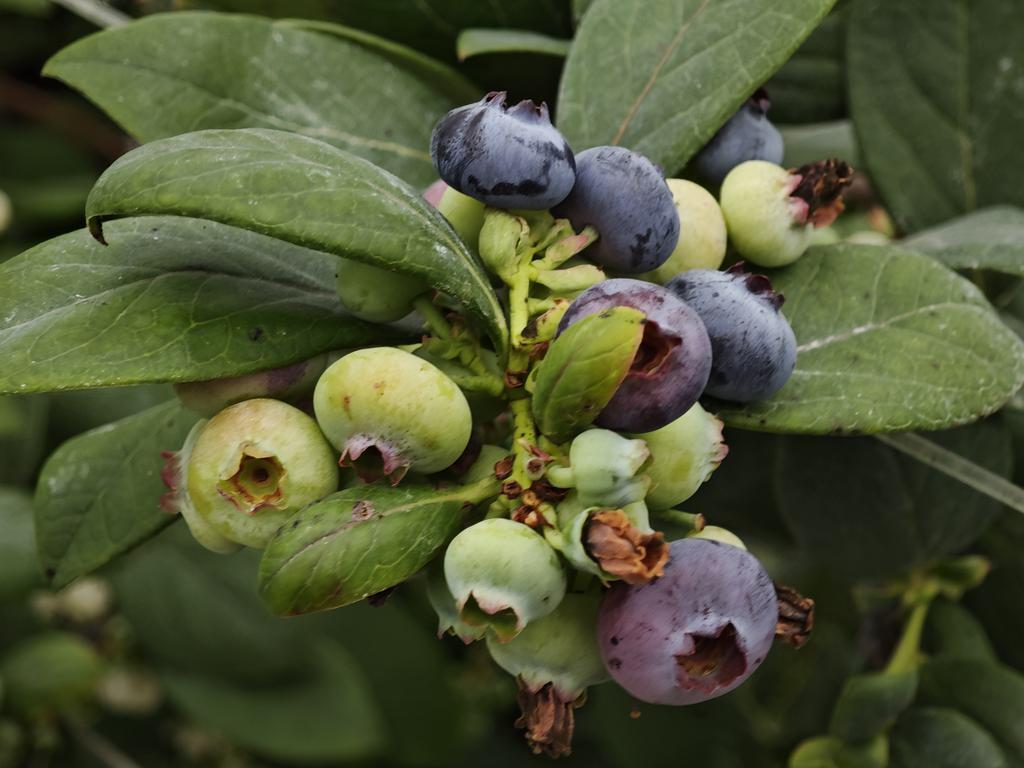RipeBlueBerry: (591, 535, 783, 710), (426, 88, 578, 212), (673, 265, 800, 408), (568, 142, 682, 273)
UnripeBlueBerry: (180, 394, 342, 545), (313, 343, 476, 485)
